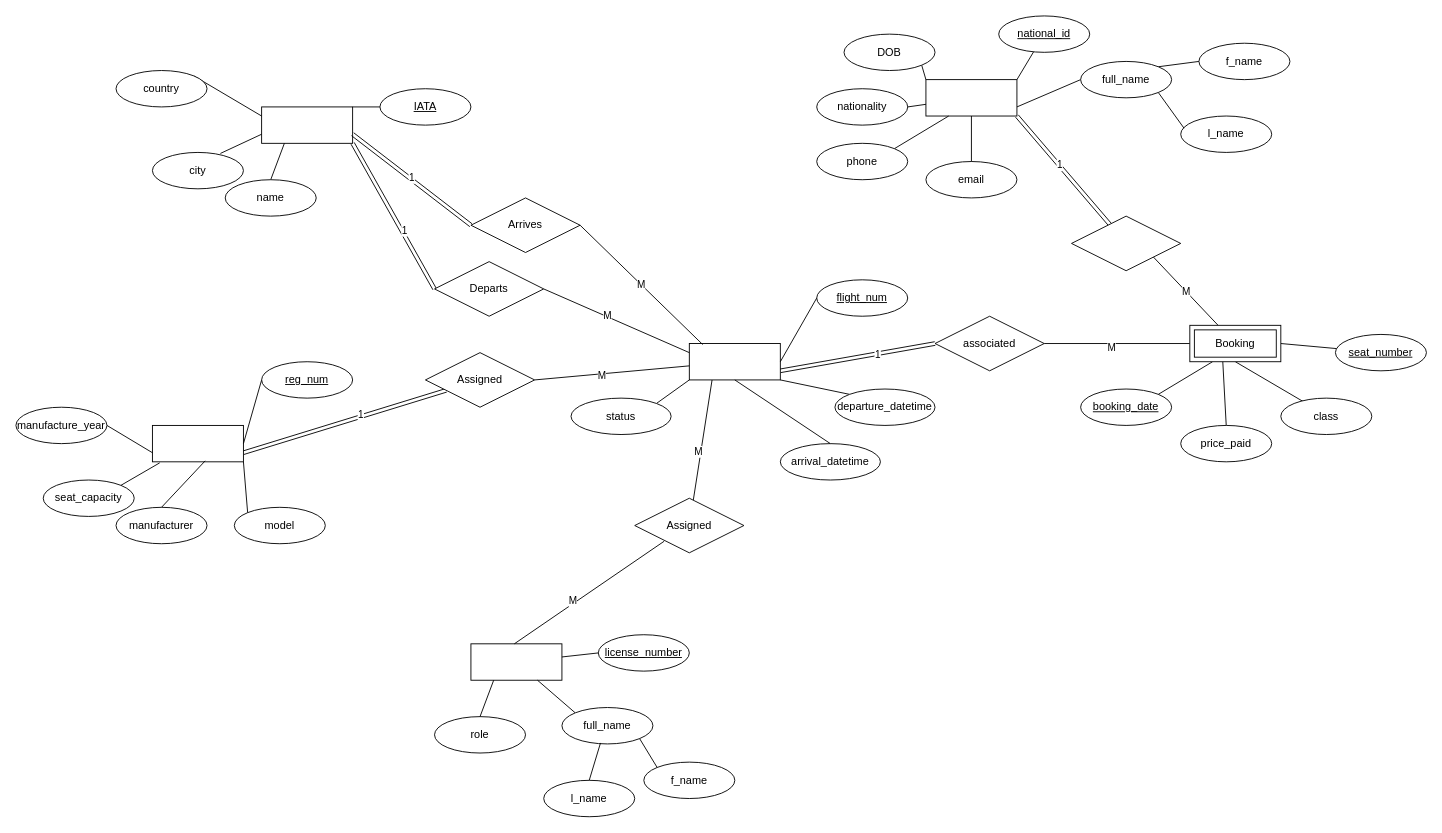
The diagram is 1442 pixels wide and 833 high, and some of its shapes have lost their labels. Each missing label, with the centre of its shape:
Aircraft: point 197,443
Airport: point 307,124
Books: point 1126,243
Crew_m ember: point 516,661
Flight: point 734,361
Passenger: point 971,97
